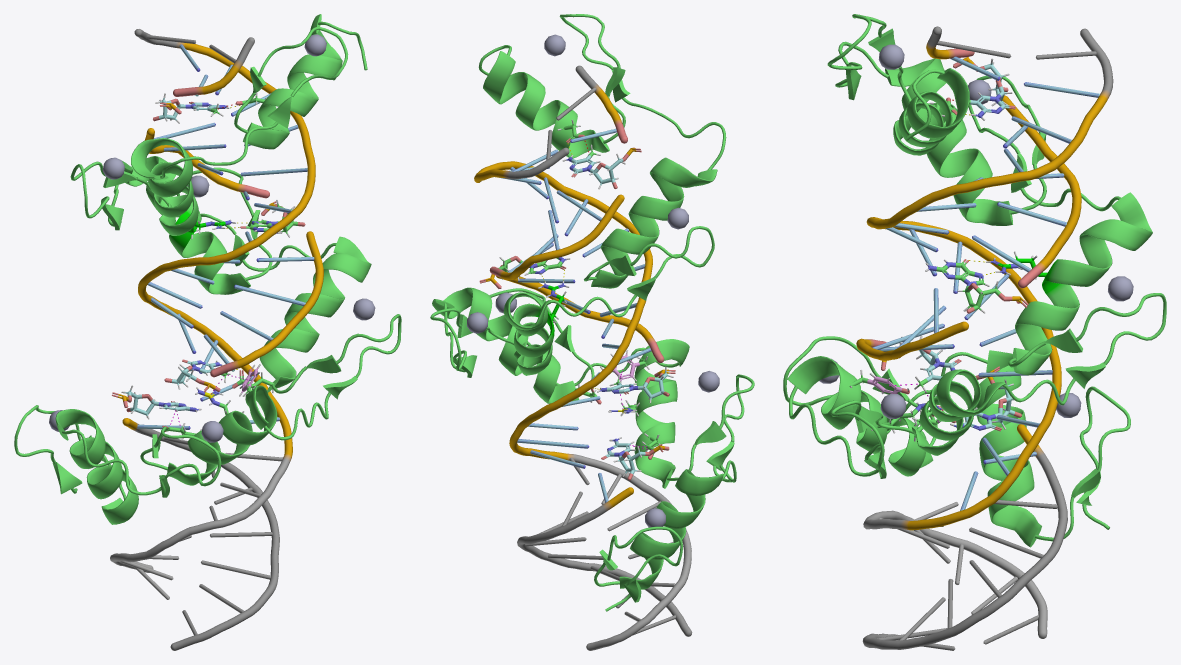
File: ctcf_a_guiding_hand_5t0u.glb
3 renders of one model, left to right at view 1: azimuth 30°, elevation 25°; view 2: azimuth 150°, elevation 25°; view 3: azimuth 270°, elevation 25°, orthographic. The views are drawn at different scales.
Visible parts, largest first — view 1: geom436-material, geom437-material; view 2: geom436-material, geom437-material; view 3: geom436-material, geom437-material.
Part boxes in pixels (box(x1,y1,x2,y2)): geom436-material: box(14, 152, 401, 524); geom437-material: box(110, 14, 367, 650); geom436-material: box(430, 163, 754, 611); geom437-material: box(474, 14, 726, 650); geom436-material: box(783, 68, 1166, 547); geom437-material: box(827, 14, 1113, 649).
Bounding box in the file's own units: 42.71 × 80.62 × 40.21.
